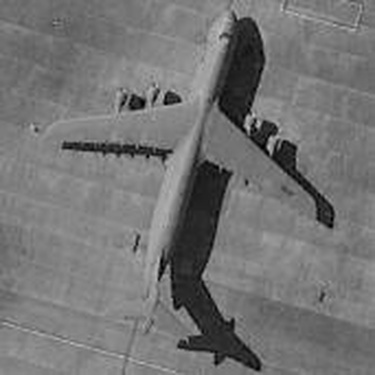airplane: (24, 4, 339, 342)
